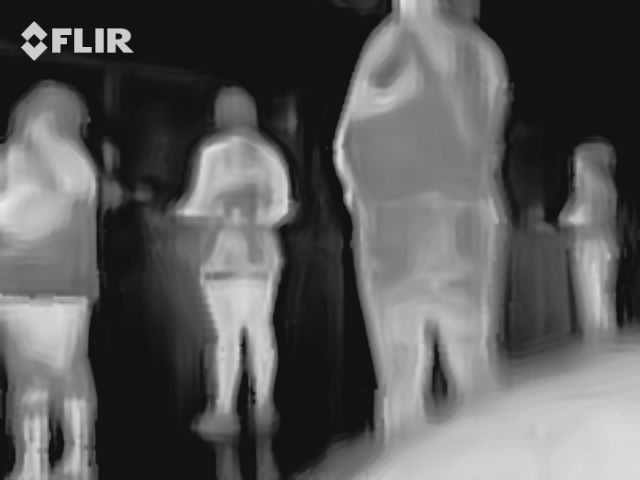head: (213, 85, 259, 135)
